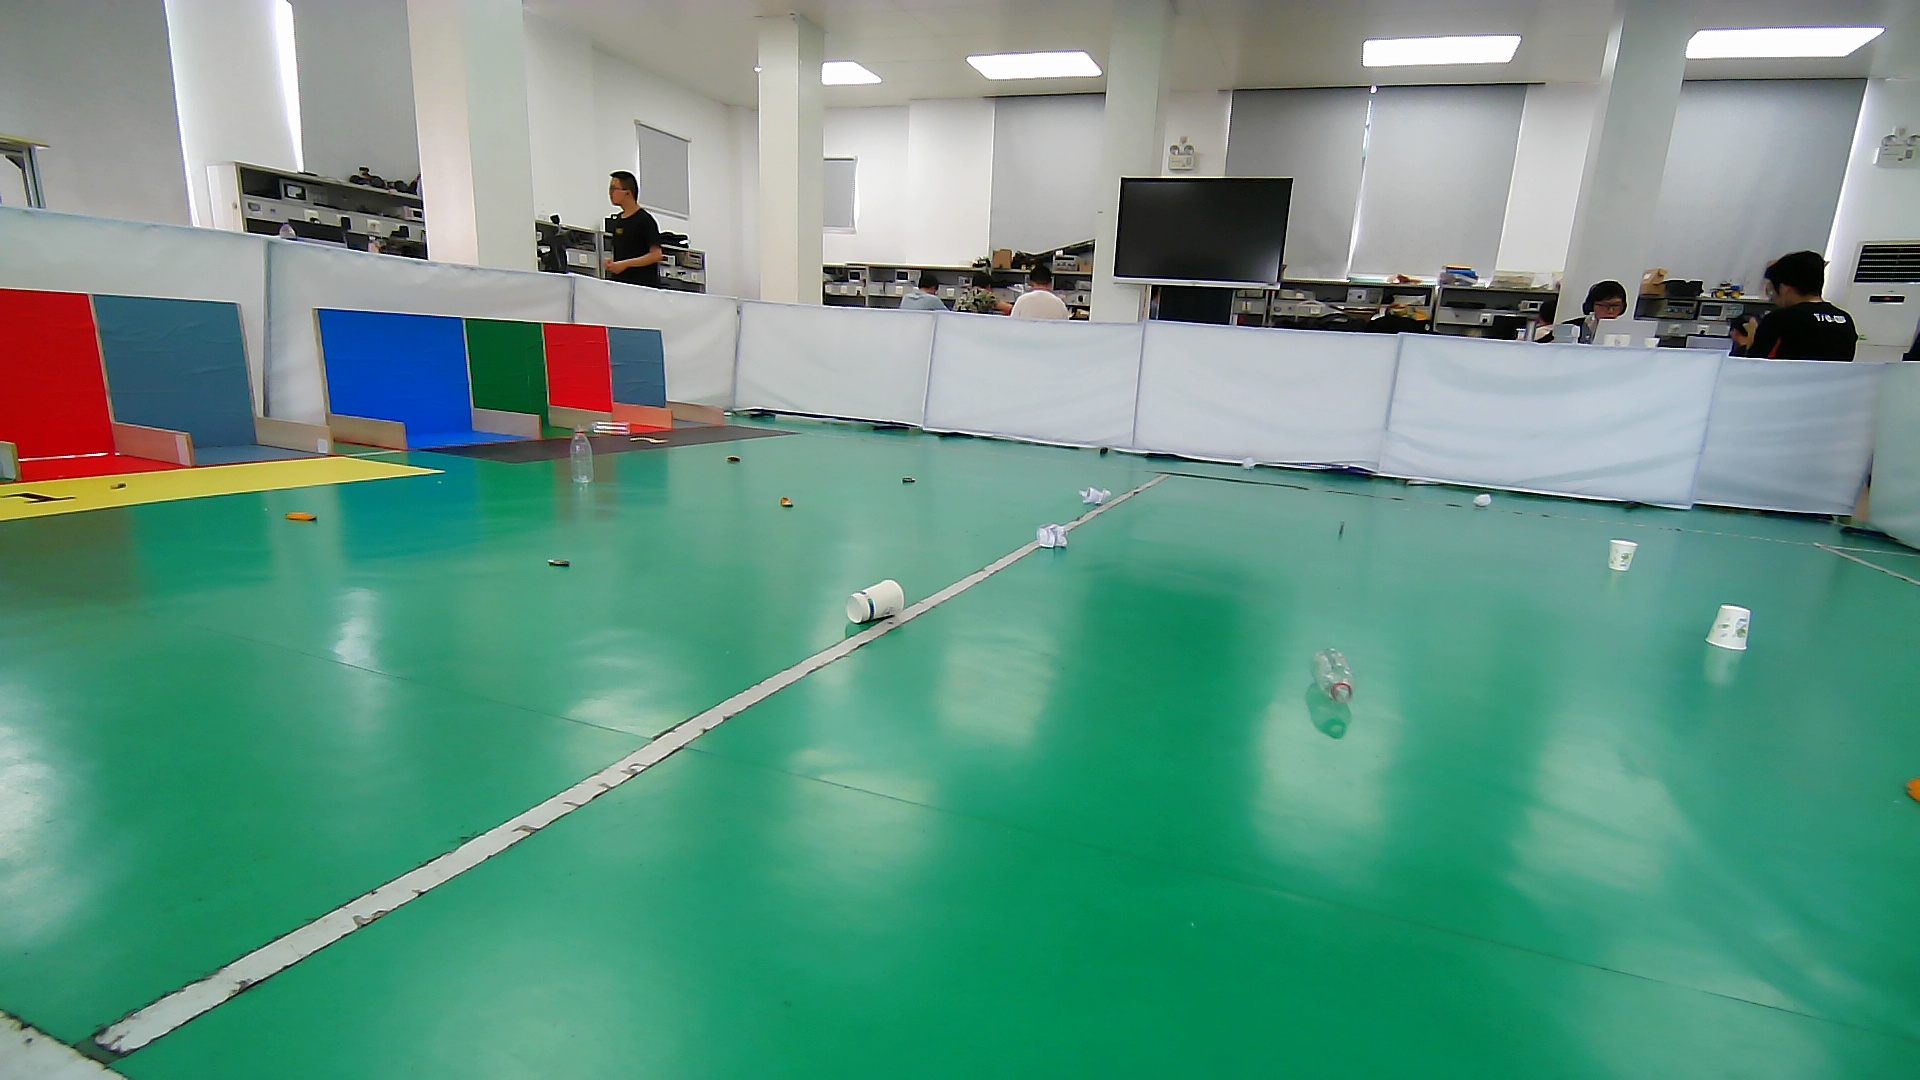battery: (542, 553, 578, 575), (1332, 512, 1350, 550), (895, 469, 922, 489)
bottle: (1305, 644, 1364, 707), (567, 425, 597, 487)
orangepeel: (280, 504, 324, 531), (774, 491, 800, 514)
papercup: (843, 578, 911, 624), (1701, 600, 1753, 654), (1604, 535, 1640, 575)
spitball: (1035, 522, 1069, 551), (1077, 483, 1112, 512), (1470, 491, 1493, 510)
